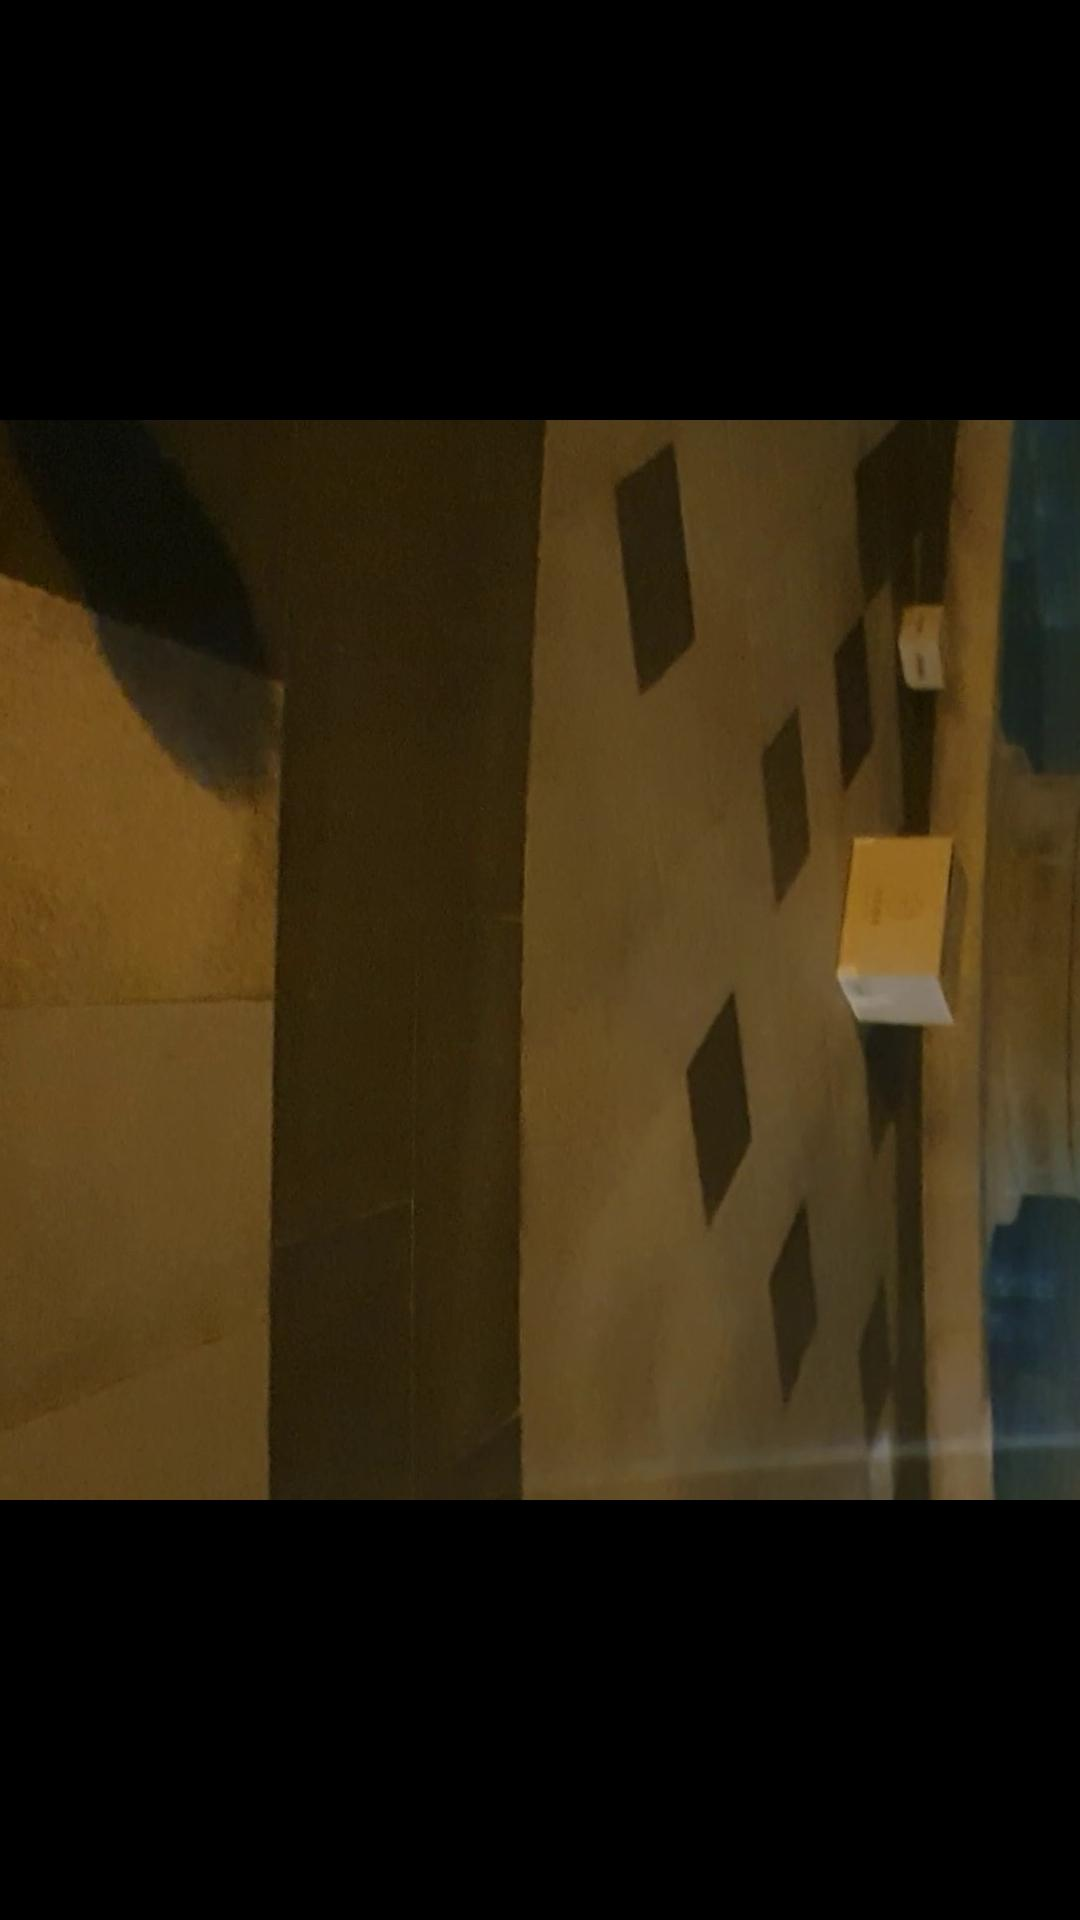Box: (827, 823, 977, 1047), (882, 596, 963, 700)
